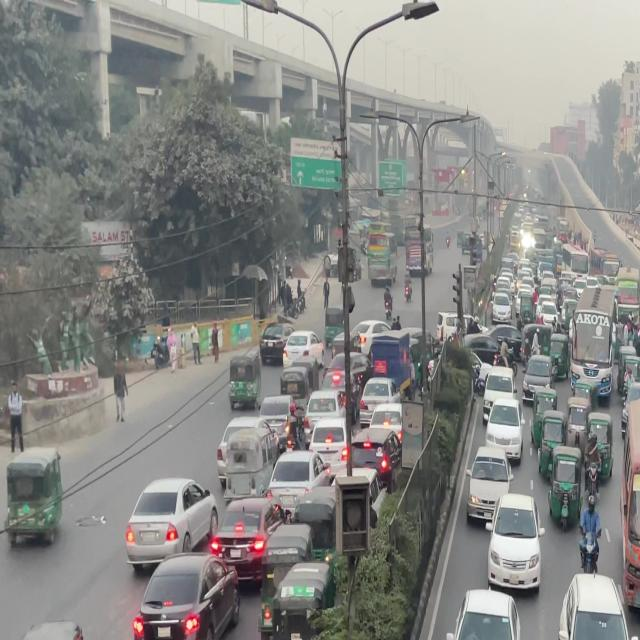bus: (618, 458, 640, 624), (624, 396, 640, 488)
car: (130, 553, 240, 640), (126, 477, 219, 566), (206, 500, 296, 577), (220, 415, 292, 495), (558, 572, 640, 640), (488, 503, 546, 592), (446, 585, 522, 640), (541, 445, 584, 529), (469, 450, 515, 516), (485, 400, 522, 450)
rickshaw: (260, 558, 336, 640), (7, 450, 67, 552), (1, 620, 88, 640)
van: (365, 335, 414, 390)
